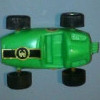verde_oeste: (1, 12, 98, 89)
